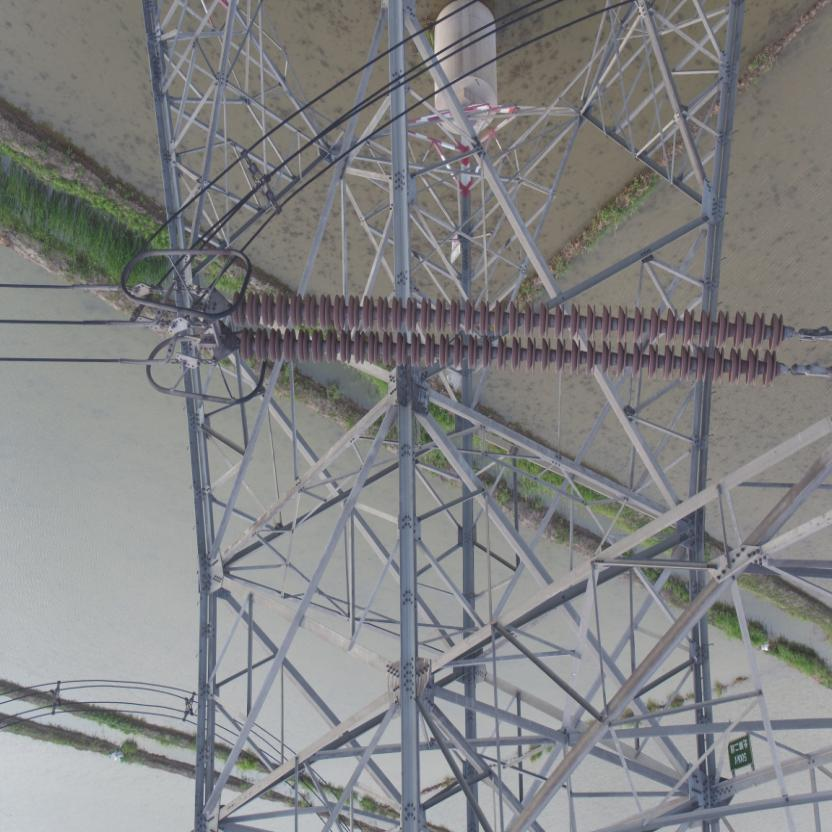insulator: (218, 291, 826, 394)
